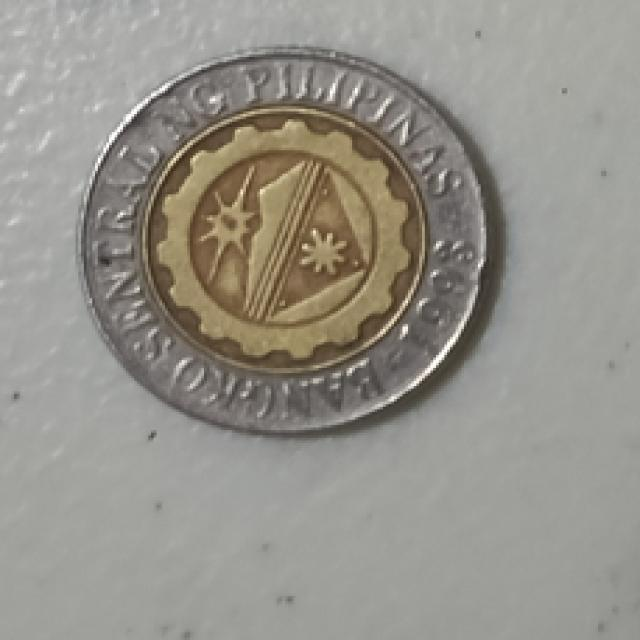10_peso: (81, 49, 489, 430)
